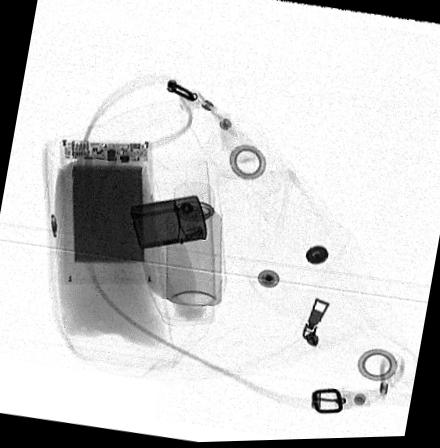Lighter: (129, 196, 206, 248)
Powerbank: (58, 137, 154, 284)
Sprayer: (165, 182, 221, 306)
